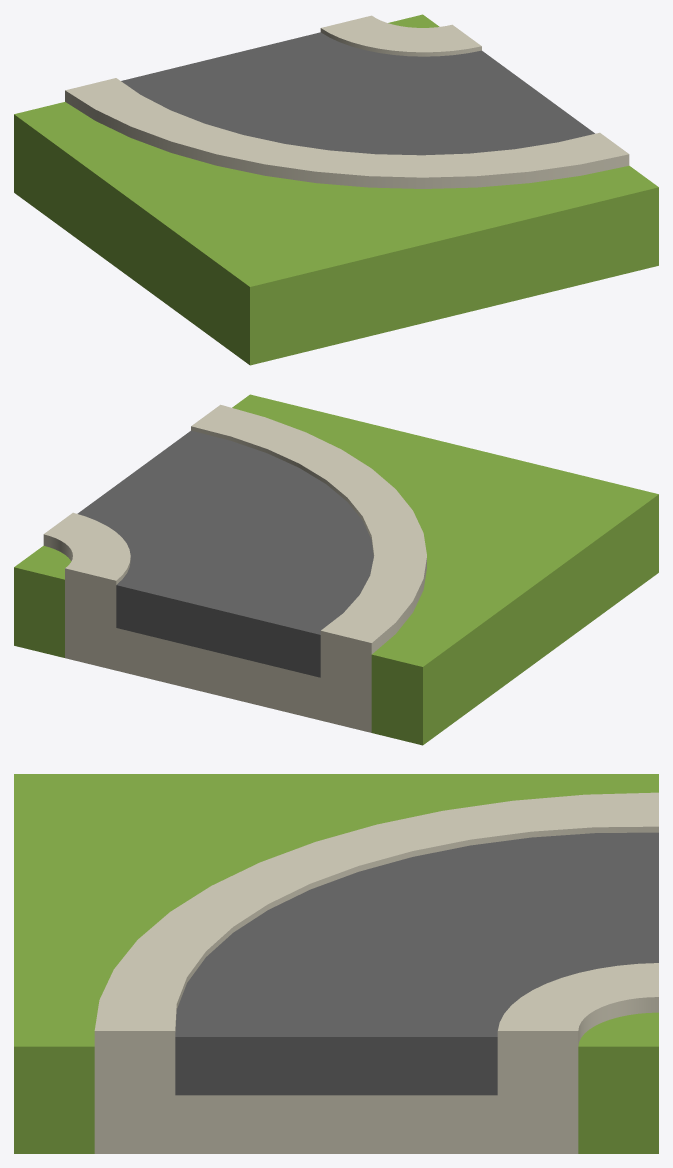
The model's file is roadTile_153.fbx.
3 views of the same model, one above another, from view 1: azimuth 30°, elevation 25°; view 2: azimuth 150°, elevation 25°; view 3: azimuth 270°, elevation 25° (orthographic). The views are drawn at different scales.
Parts seen in each view (by area): view 1: roadTile_153; view 2: roadTile_153; view 3: roadTile_153.
Boxes of the visible parts, x1,y1,x2,y2 form: roadTile_153: (14,14,658,365); roadTile_153: (14,394,658,745); roadTile_153: (14,774,658,1153).
Bounding box in the file's own units: 118 × 24.8 × 118.
